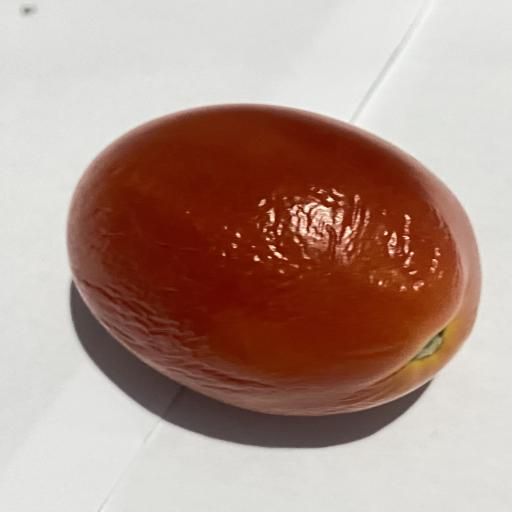spoiled: (68, 105, 480, 415), (270, 212, 273, 216)
